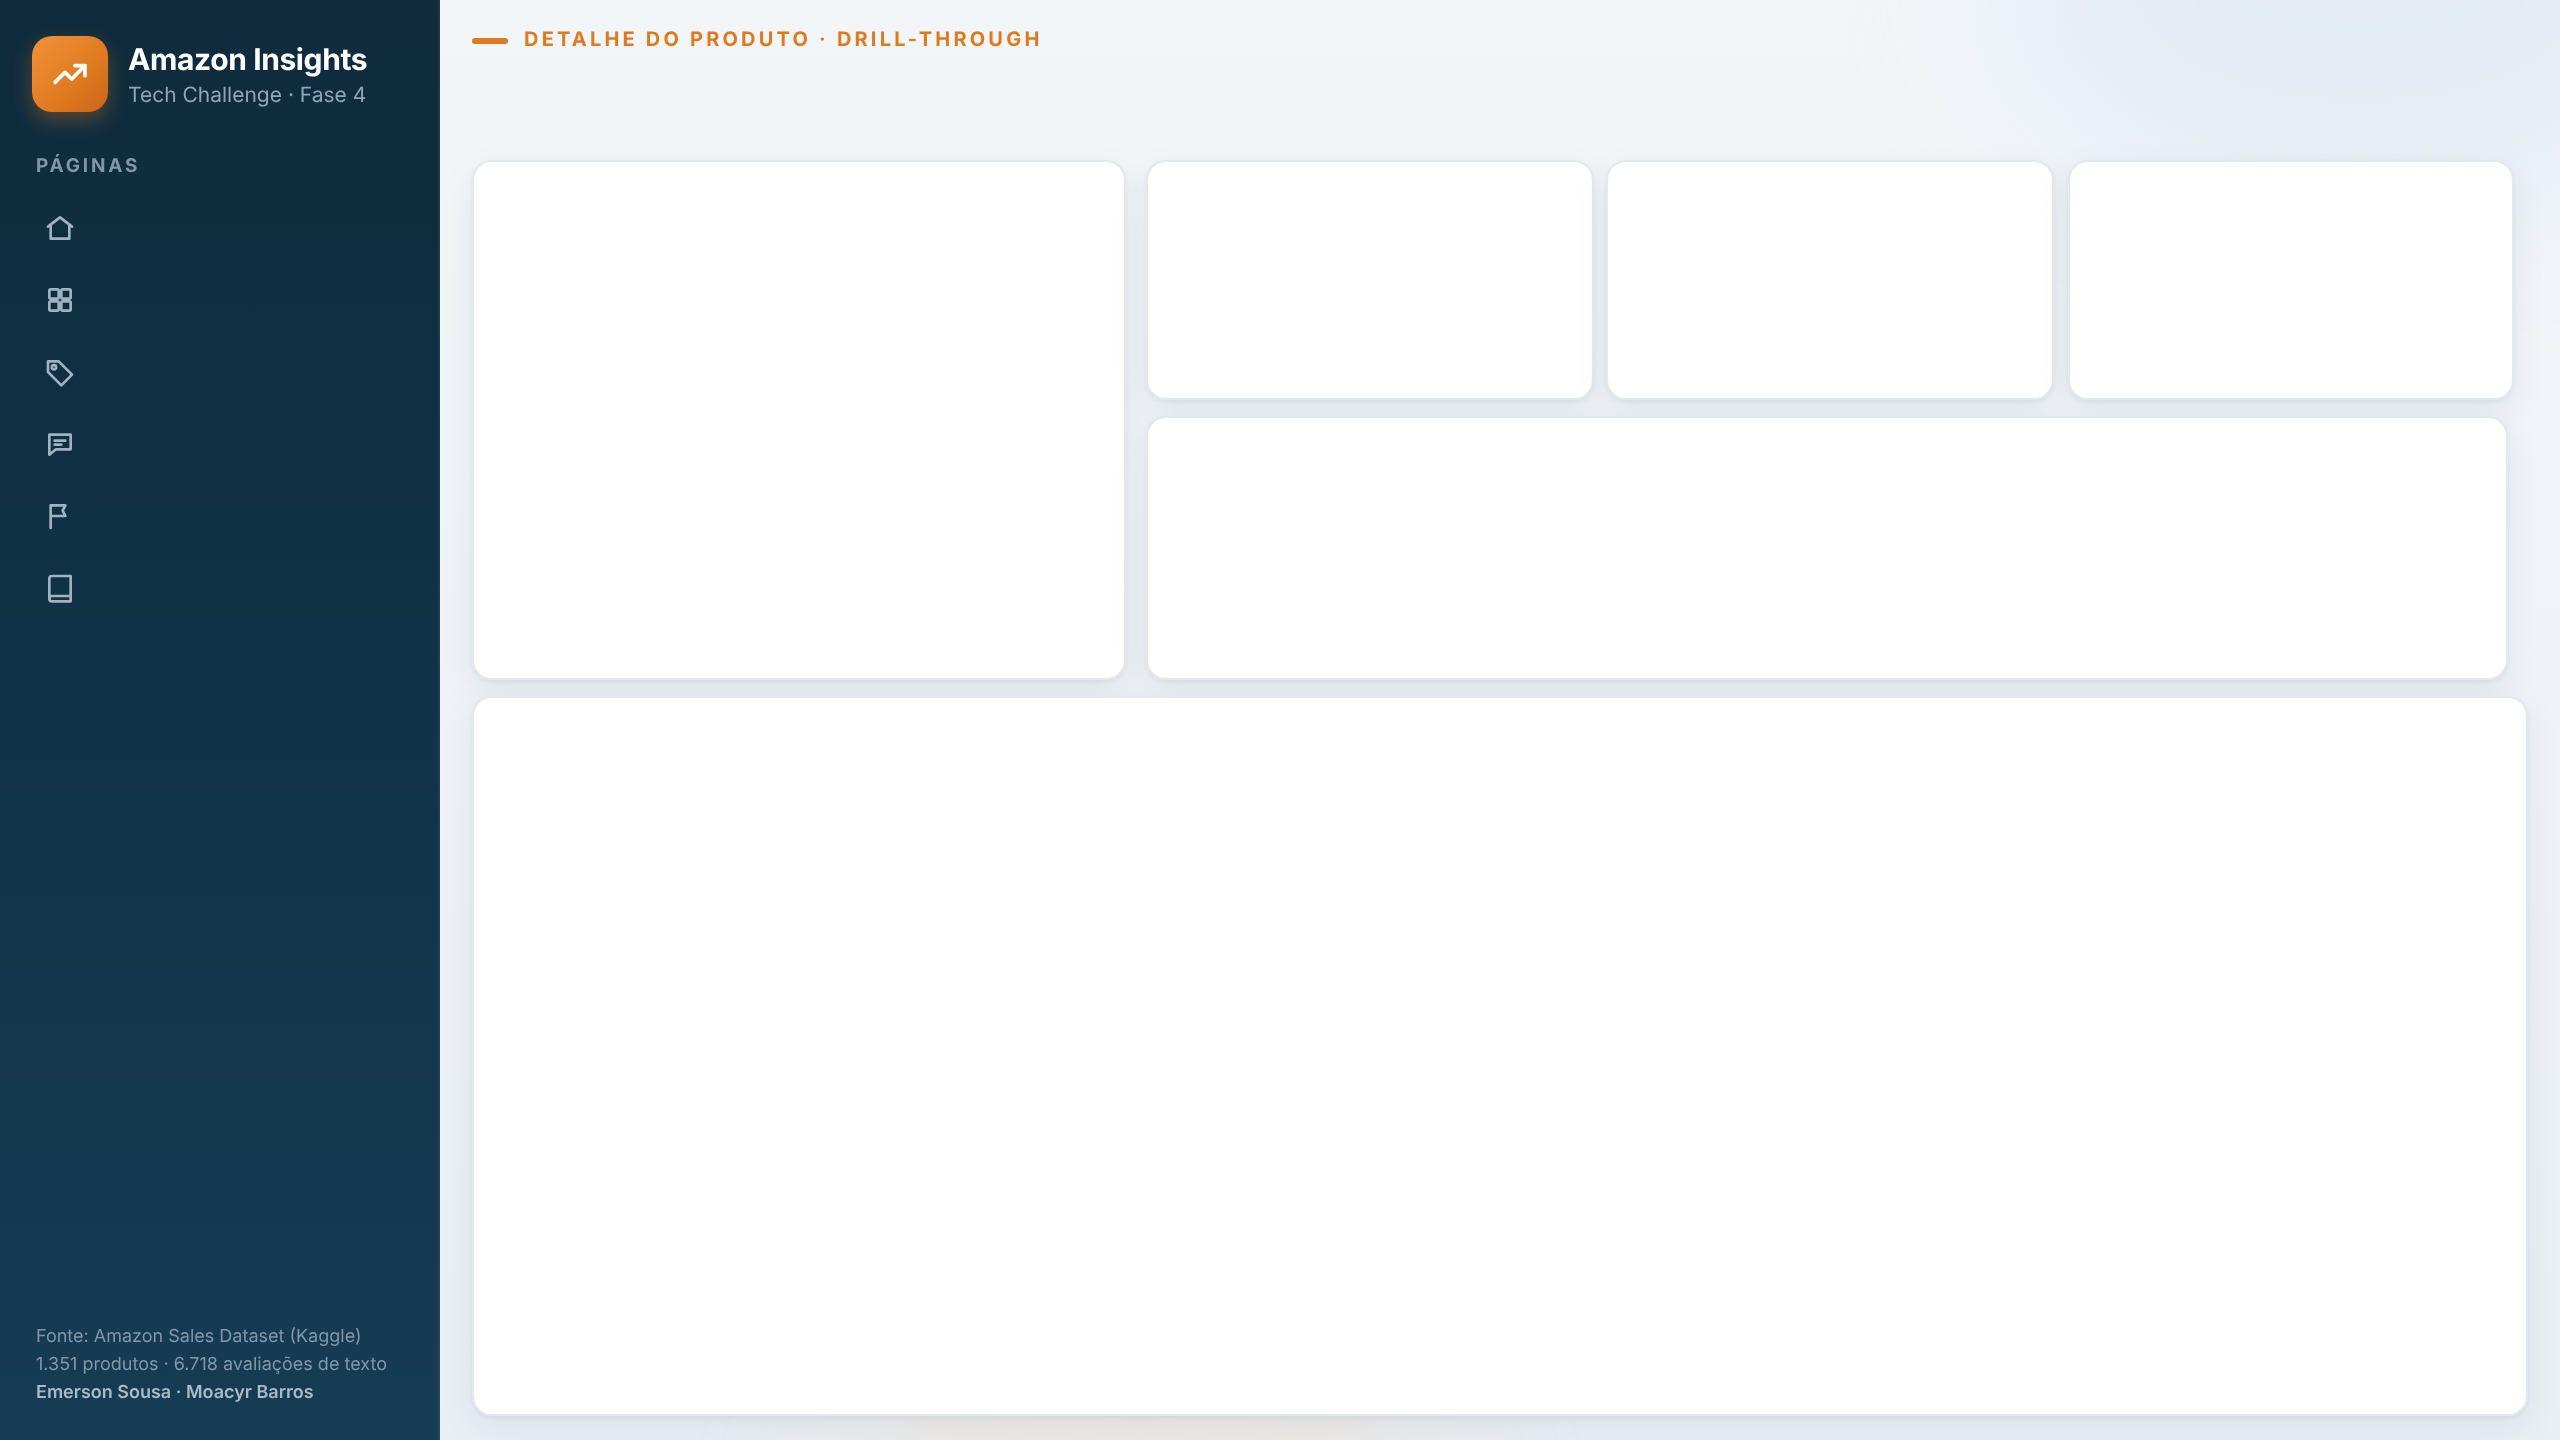

Layout of this report page (visuals, bound fields, positions):
{"tool":"powerbi","page":{"name":"Detalhe do produto","canvas":[1280,720],"ordinal":6},"visuals":[{"type":"textbox","box":[228,26,1044,44],"z":0},{"type":"actionButton","box":[1172,24,92,34],"z":1000},{"type":"multiRowCard","fields":{"Values":["fProdutos.nome_curto","fProdutos.categoria","fProdutos.subcategoria","fProdutos.quadrante"]},"box":[236,80,327.4,260],"z":2000},{"type":"card","fields":{"Values":["_Medidas.Nota média"]},"box":[573.2,80,223.7,120],"z":3000},{"type":"card","fields":{"Values":["_Medidas.Avaliações"]},"box":[803.5,80,223.7,120],"z":4000},{"type":"card","fields":{"Values":["_Medidas.Desconto médio"]},"box":[1033.7,80,223.7,120],"z":5000},{"type":"card","fields":{"Values":["_Medidas.Aviso sem avaliações de texto"]},"box":[573.2,208,681,132],"z":6000},{"type":"tableEx","title":"Avaliações de texto do produto","fields":{"Values":["fReviews.sentimento","fReviews.titulo","fReviews.texto"]},"box":[236,348,1028,360],"z":7000},{"type":"actionButton","box":[44,98,166,32],"z":8000},{"type":"actionButton","box":[44,134,166,32],"z":9000},{"type":"actionButton","box":[44,170,166,32],"z":10000},{"type":"actionButton","box":[44,206,166,32],"z":11000},{"type":"actionButton","box":[44,242,166,32],"z":12000},{"type":"actionButton","box":[44,278,166,32],"z":13000}]}

Visuals, with their boxes on the page's 1280x720 design canvas (x1, y1, x2, y2). These are canvas units, not pixel positions in the 2560x1440 screenshot, which may show the page scaled, cropped or inside an application window:
textbox: x1=228, y1=26, x2=1272, y2=70
actionButton: x1=1172, y1=24, x2=1264, y2=58
multiRowCard - fProdutos.nome_curto x fProdutos.categoria: x1=236, y1=80, x2=563, y2=340
card - _Medidas.Nota média: x1=573, y1=80, x2=797, y2=200
card - _Medidas.Avaliações: x1=804, y1=80, x2=1027, y2=200
card - _Medidas.Desconto médio: x1=1034, y1=80, x2=1257, y2=200
card - _Medidas.Aviso sem avaliações de texto: x1=573, y1=208, x2=1254, y2=340
"Avaliações de texto do produto" tableEx: x1=236, y1=348, x2=1264, y2=708
actionButton: x1=44, y1=98, x2=210, y2=130
actionButton: x1=44, y1=134, x2=210, y2=166
actionButton: x1=44, y1=170, x2=210, y2=202
actionButton: x1=44, y1=206, x2=210, y2=238
actionButton: x1=44, y1=242, x2=210, y2=274
actionButton: x1=44, y1=278, x2=210, y2=310
